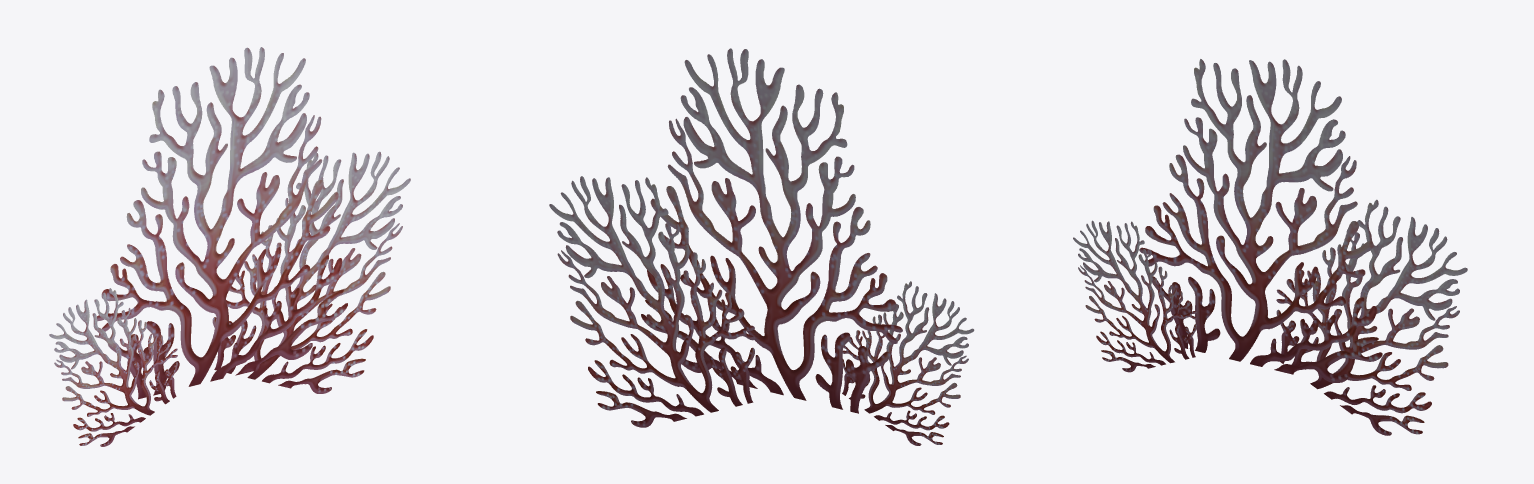
Rendered from Coral_03b.FBX.
The picture shows the model from 3 angles, left to right: view 1: azimuth 30°, elevation 25°; view 2: azimuth 150°, elevation 25°; view 3: azimuth 330°, elevation 25°; orthographic projection. The views are drawn at different scales.
Parts seen in each view (by area): view 1: Coral_03b; view 2: Coral_03b; view 3: Coral_03b.
Part boxes in pixels (bbox=[...]): Coral_03b: bbox=[49, 47, 410, 446]; Coral_03b: bbox=[549, 48, 974, 445]; Coral_03b: bbox=[1073, 59, 1467, 435].
Size of the model in its own units: 77.41 by 63.09 by 6.77.
